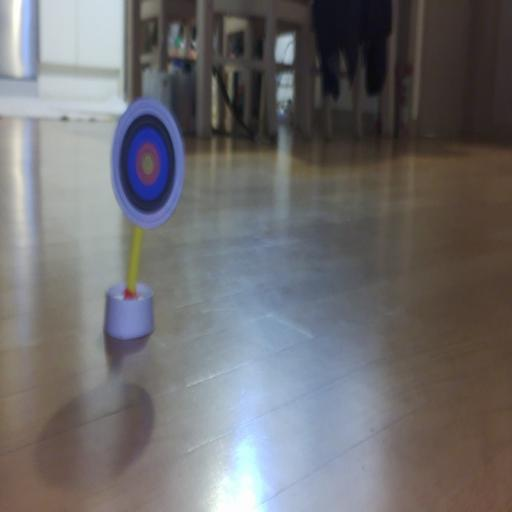target: (112, 98, 184, 228)
